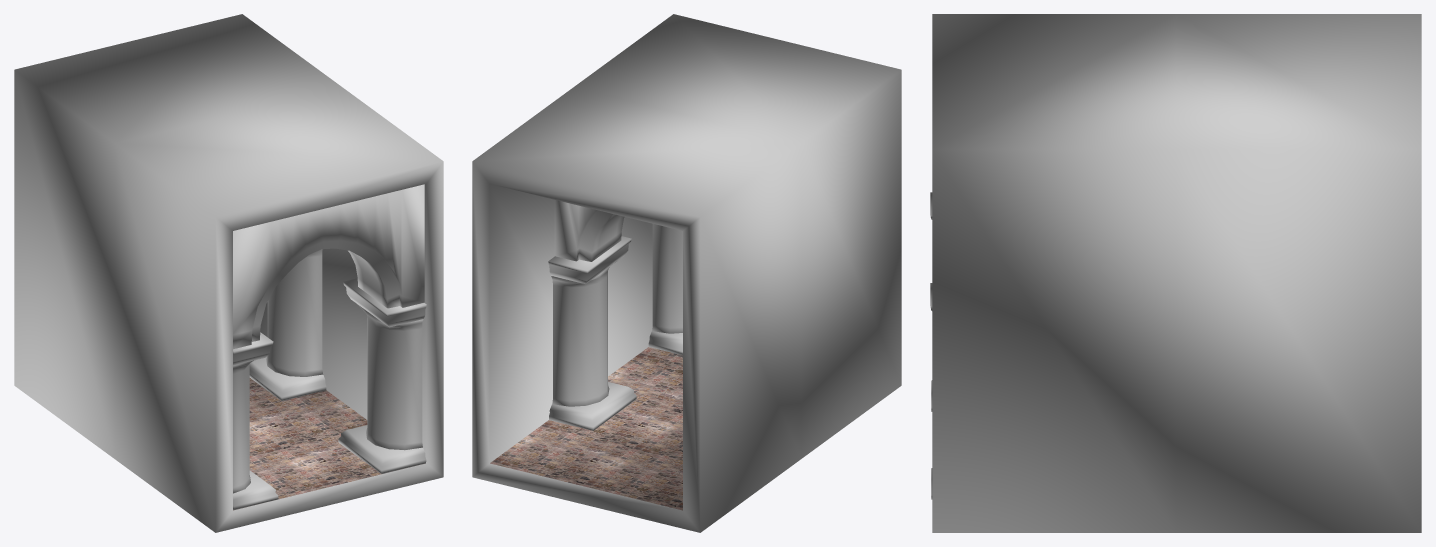
The model's file is templepieceA.dae.
The picture shows the model from 3 angles, left to right: view 1: azimuth 30°, elevation 25°; view 2: azimuth 150°, elevation 25°; view 3: azimuth 270°, elevation 25°; orthographic projection. The views are drawn at different scales.
Visible parts, largest first — view 1: meshU3D; view 2: meshU3D; view 3: meshU3D.
Boxes of the visible parts, x1,y1,x2,y2 form: meshU3D: (14,14,443,532); meshU3D: (472,14,901,532); meshU3D: (930,14,1421,532).
Bounding box in the file's own units: 4.66 × 6.16 × 7.15.
